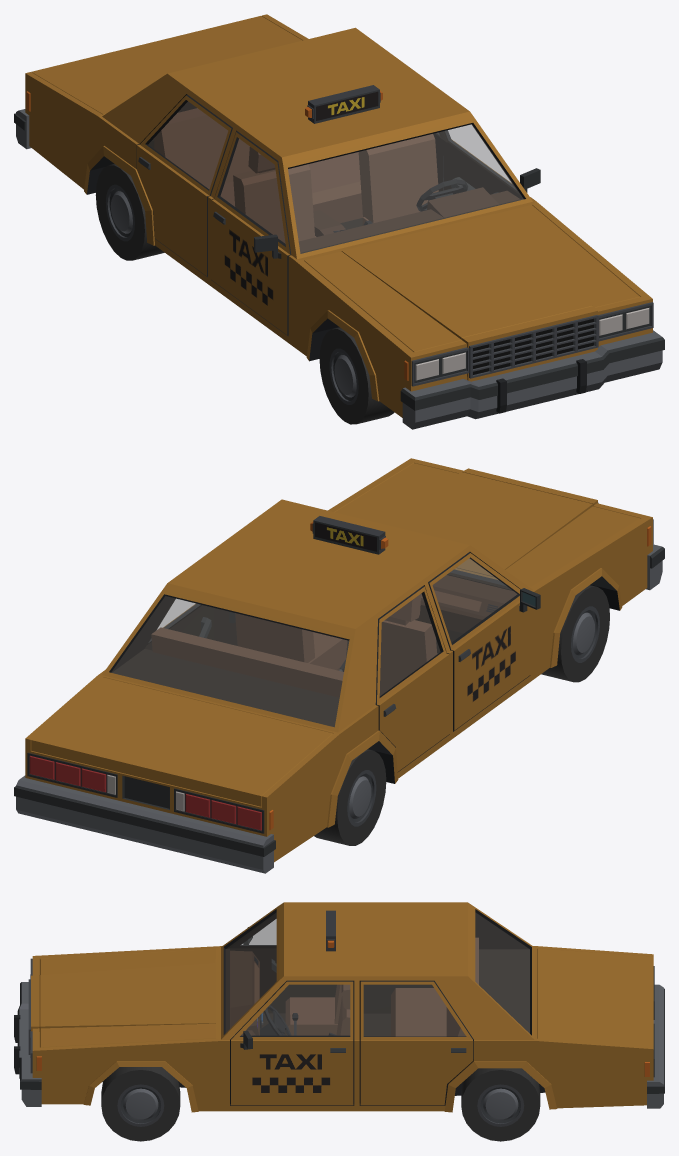
Rendered from sedantaxi.gltf.
The picture shows the model from 3 angles, top to bottom: view 1: azimuth 30°, elevation 25°; view 2: azimuth 150°, elevation 25°; view 3: azimuth 270°, elevation 25°; orthographic projection. The views are drawn at different scales.
Parts seen in each view (by area): view 1: TAXI_01, INTERIOR.007, WINDOWS.005, DOOR FR.003, DOOR BR.003, WHEEL.1R.005, WHEEL.2R.005, WIN BR.002, WIN FL.004, DOOR FL.001, TAXI, WIN FL.005; view 2: TAXI_01, WINDOWS.005, INTERIOR.007, DOOR FR.003, DOOR BR.003, WHEEL.1R.005, WHEEL.2R.005, WIN FL.004, WIN BR.002, TAXI, DOOR BL.002, DOOR FL.001; view 3: TAXI_01, DOOR FL.001, INTERIOR.007, WINDOWS.005, DOOR BL.002, WHEEL.1L.005, WHEEL.2L.005, WIN BL.002, WIN FL.005, DOOR FR.003, DOOR BR.003, WIN FL.004 (+1 smaller).
Part boxes in pixels (bbox=[...]): TAXI_01: bbox=[14, 14, 664, 429]; INTERIOR.007: bbox=[153, 108, 519, 252]; WINDOWS.005: bbox=[288, 124, 523, 253]; DOOR FR.003: bbox=[211, 131, 291, 335]; DOOR BR.003: bbox=[137, 94, 232, 275]; WHEEL.1R.005: bbox=[319, 327, 394, 424]; WHEEL.2R.005: bbox=[95, 164, 164, 260]; WIN BR.002: bbox=[148, 102, 227, 188]; WIN FL.004: bbox=[221, 139, 284, 242]; DOOR FL.001: bbox=[443, 124, 540, 198]; TAXI: bbox=[305, 85, 382, 123]; WIN FL.005: bbox=[445, 125, 514, 188]; TAXI_01: bbox=[14, 458, 664, 873]; WINDOWS.005: bbox=[111, 559, 505, 726]; INTERIOR.007: bbox=[151, 575, 517, 697]; DOOR FR.003: bbox=[428, 552, 540, 730]; DOOR BR.003: bbox=[375, 585, 449, 771]; WHEEL.1R.005: bbox=[541, 585, 609, 682]; WHEEL.2R.005: bbox=[314, 749, 386, 845]; WIN FL.004: bbox=[433, 558, 516, 641]; WIN BR.002: bbox=[380, 594, 439, 695]; TAXI: bbox=[310, 516, 388, 554]; DOOR BL.002: bbox=[145, 598, 214, 650]; DOOR FL.001: bbox=[217, 608, 237, 645]; TAXI_01: bbox=[14, 902, 664, 1112]; DOOR FL.001: bbox=[230, 980, 354, 1105]; INTERIOR.007: bbox=[230, 937, 478, 1036]; WINDOWS.005: bbox=[226, 913, 529, 1032]; DOOR BL.002: bbox=[359, 980, 473, 1105]; WHEEL.1L.005: bbox=[101, 1067, 180, 1141]; WHEEL.2L.005: bbox=[461, 1068, 540, 1141]; WIN BL.002: bbox=[364, 985, 465, 1036]; WIN FL.005: bbox=[241, 985, 349, 1035]; DOOR FR.003: bbox=[230, 914, 336, 1013]; DOOR BR.003: bbox=[363, 984, 433, 1013]; WIN FL.004: bbox=[241, 920, 275, 945].
Size of the model in its own units: 2.19 by 1.55 by 5.38.
16 materials, 16 textured.
